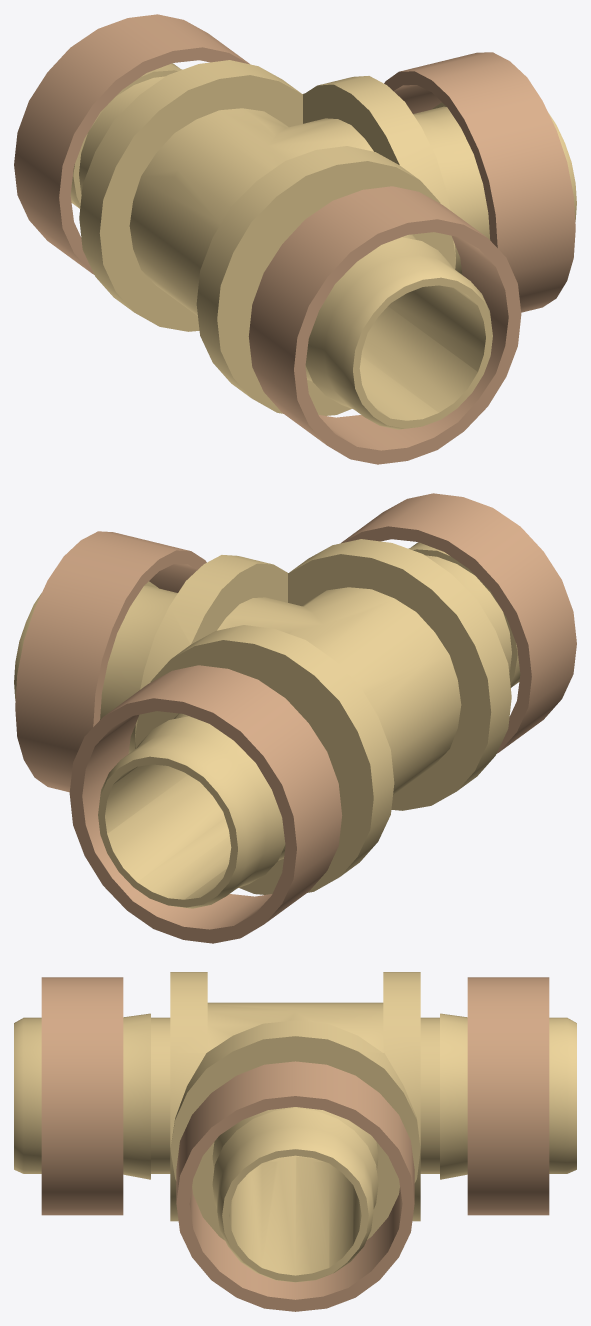
File: pipes_supply__water_heater__312511b8.glb
The picture shows the model from 3 angles, top to bottom: view 1: azimuth 30°, elevation 25°; view 2: azimuth 150°, elevation 25°; view 3: azimuth 270°, elevation 25°; orthographic projection. The views are drawn at different scales.
Parts seen in each view (by area): view 1: fit_tee_pipe_supply_cold_wh_closet__pex.901; view 2: fit_tee_pipe_supply_cold_wh_closet__pex.901; view 3: fit_tee_pipe_supply_cold_wh_closet__pex.901.
Part boxes in pixels (box(x1,y1,x2,y2)): fit_tee_pipe_supply_cold_wh_closet__pex.901: box(14, 14, 576, 464); fit_tee_pipe_supply_cold_wh_closet__pex.901: box(14, 493, 576, 943); fit_tee_pipe_supply_cold_wh_closet__pex.901: box(14, 972, 576, 1311).
Size of the model in its own units: 0.0413 by 0.0254 by 0.0571.
